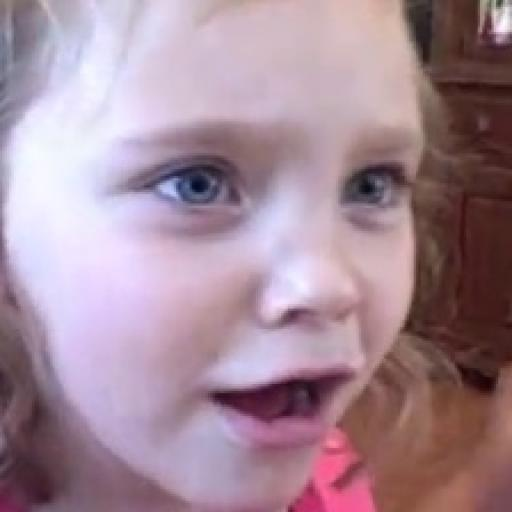Autism: (28, 6, 482, 512)
